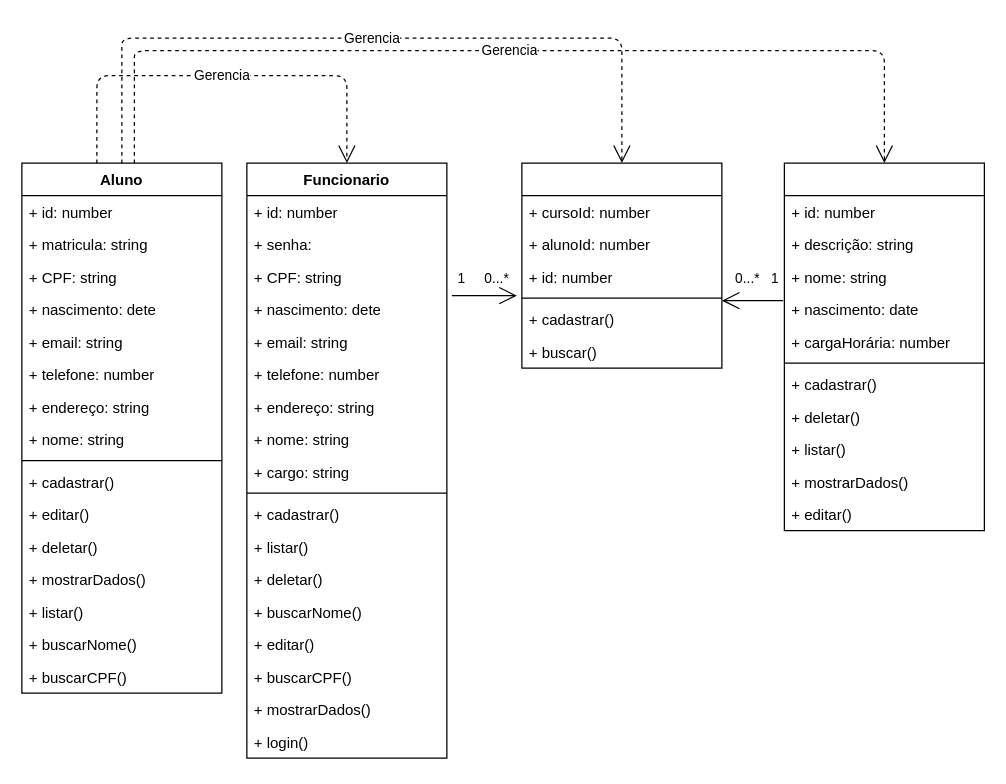
This 1006x784 diagram has some shape labels left out. Here are the shapes that lost their labels. From the top down, the box of each, then its label:
(521, 162, 722, 368): Matricula
(783, 162, 984, 531): Curso
